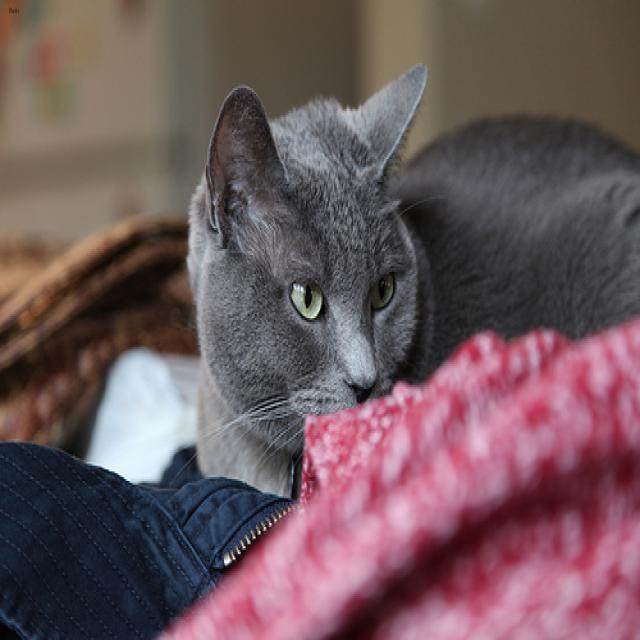Russian_Blue: (188, 60, 427, 474)
